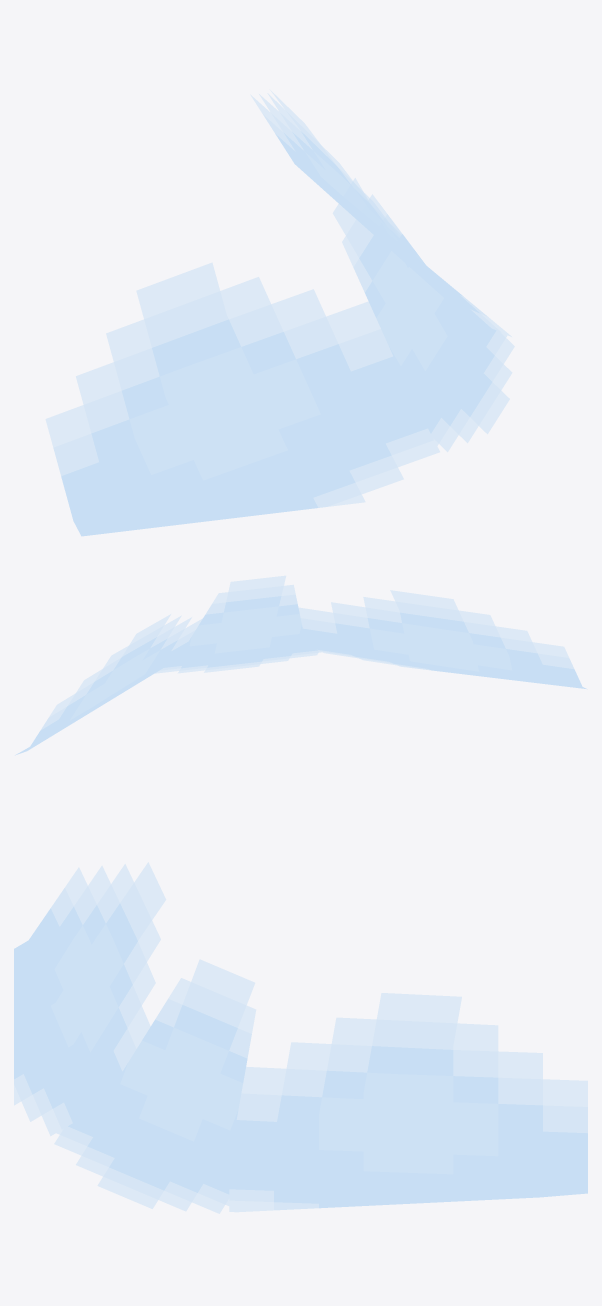
The picture shows the model from 3 angles, top to bottom: view 1: azimuth 30°, elevation 25°; view 2: azimuth 150°, elevation 25°; view 3: azimuth 270°, elevation 25°; orthographic projection. The views are drawn at different scales.
Size of the model in its own units: 1 by 0.5088 by 1.
1 material, 1 textured.
